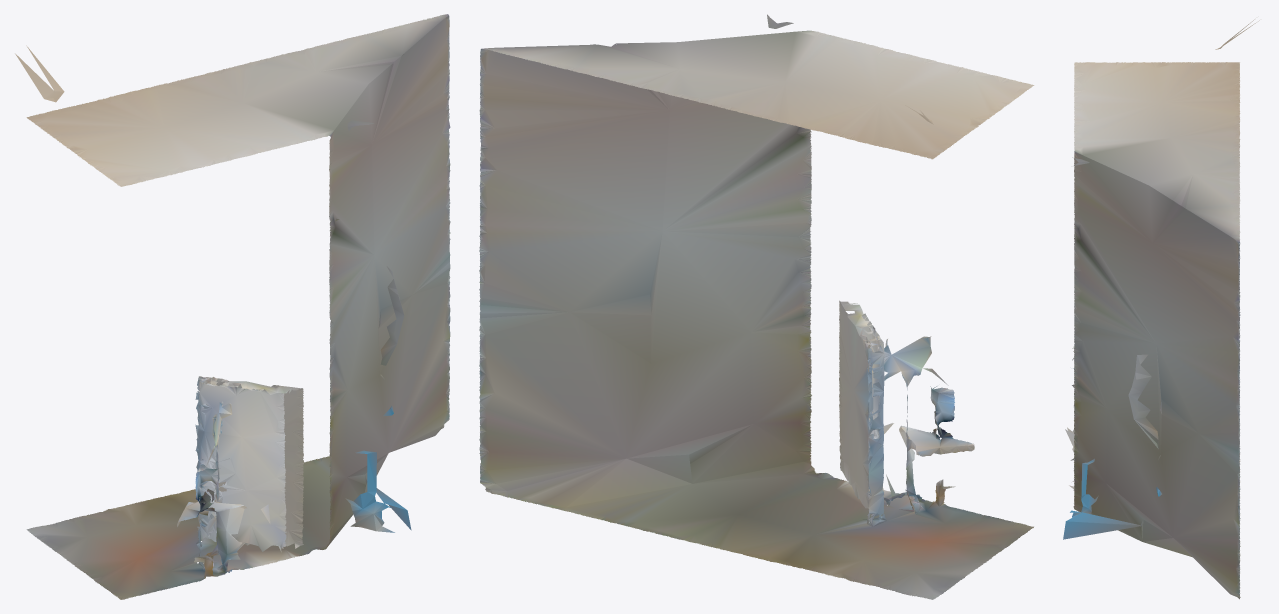
3 views of the same model, side by side, from view 1: azimuth 30°, elevation 25°; view 2: azimuth 150°, elevation 25°; view 3: azimuth 270°, elevation 25° (orthographic). The views are drawn at different scales.
Size of the model in its own units: 5.17 by 5.5 by 2.44.
